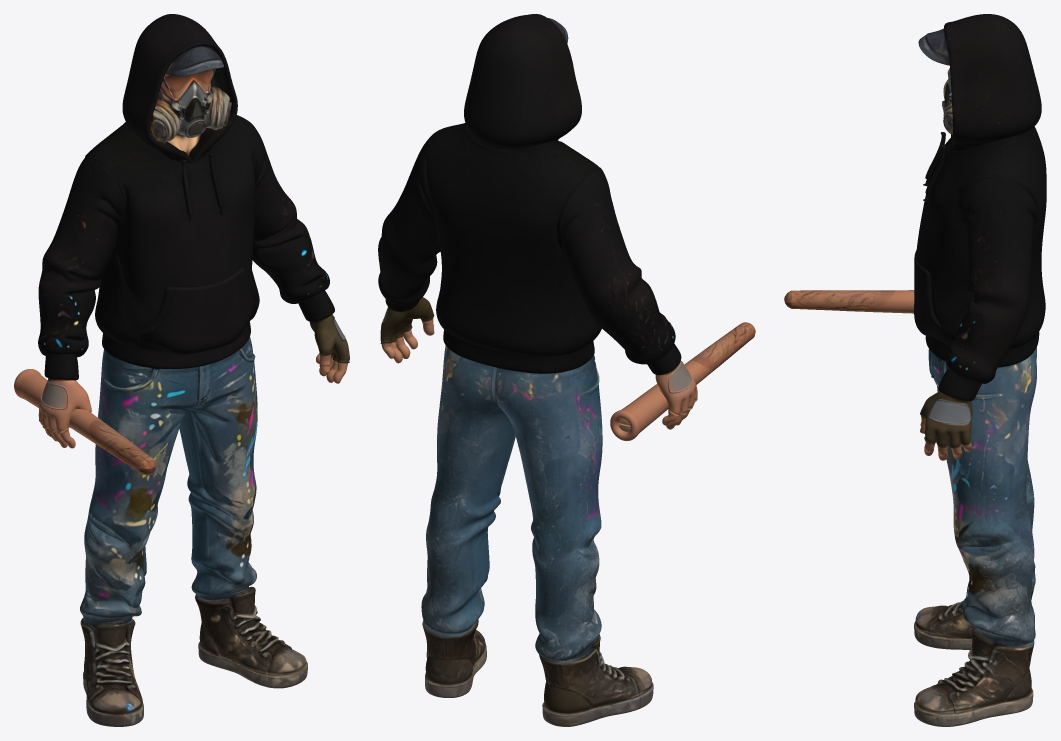
Rendered from graffiti-character-3d.glb.
3 views of the same model, side by side, from view 1: azimuth 30°, elevation 25°; view 2: azimuth 150°, elevation 25°; view 3: azimuth 270°, elevation 25° (orthographic). The views are drawn at different scales.
Visible parts, largest first — view 1: model; view 2: model; view 3: model.
Boxes of the visible parts, box(x1,y1,x2,y2) form: model: box(14, 14, 349, 726); model: box(378, 14, 755, 726); model: box(784, 14, 1046, 726).
Size of the model in its own units: 0.8909 by 1.9 by 0.6813.
Materials: 1 (1 with a texture image).
